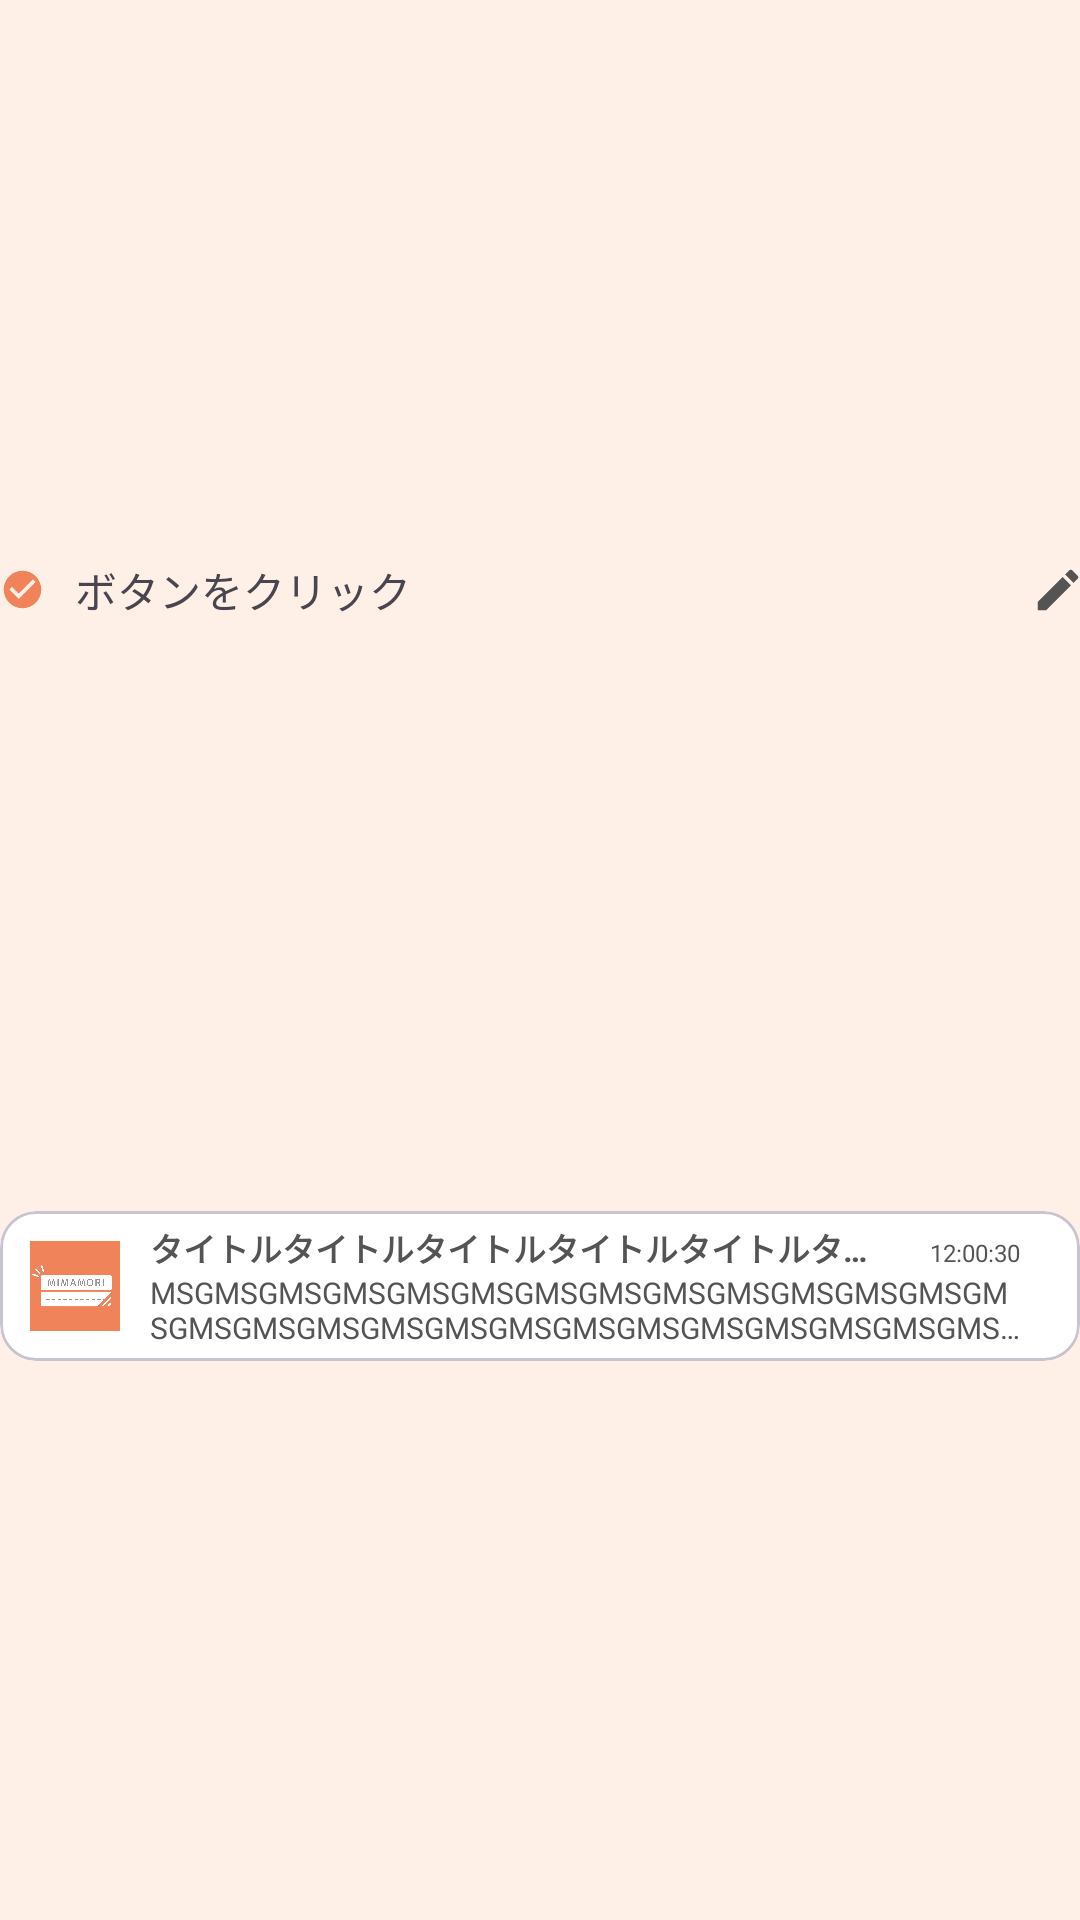

Icons on this 1080*1920 Android screen, each with the point to tap as point (x, y):
check circle checked: point (22, 589)
edit: point (1058, 590)
